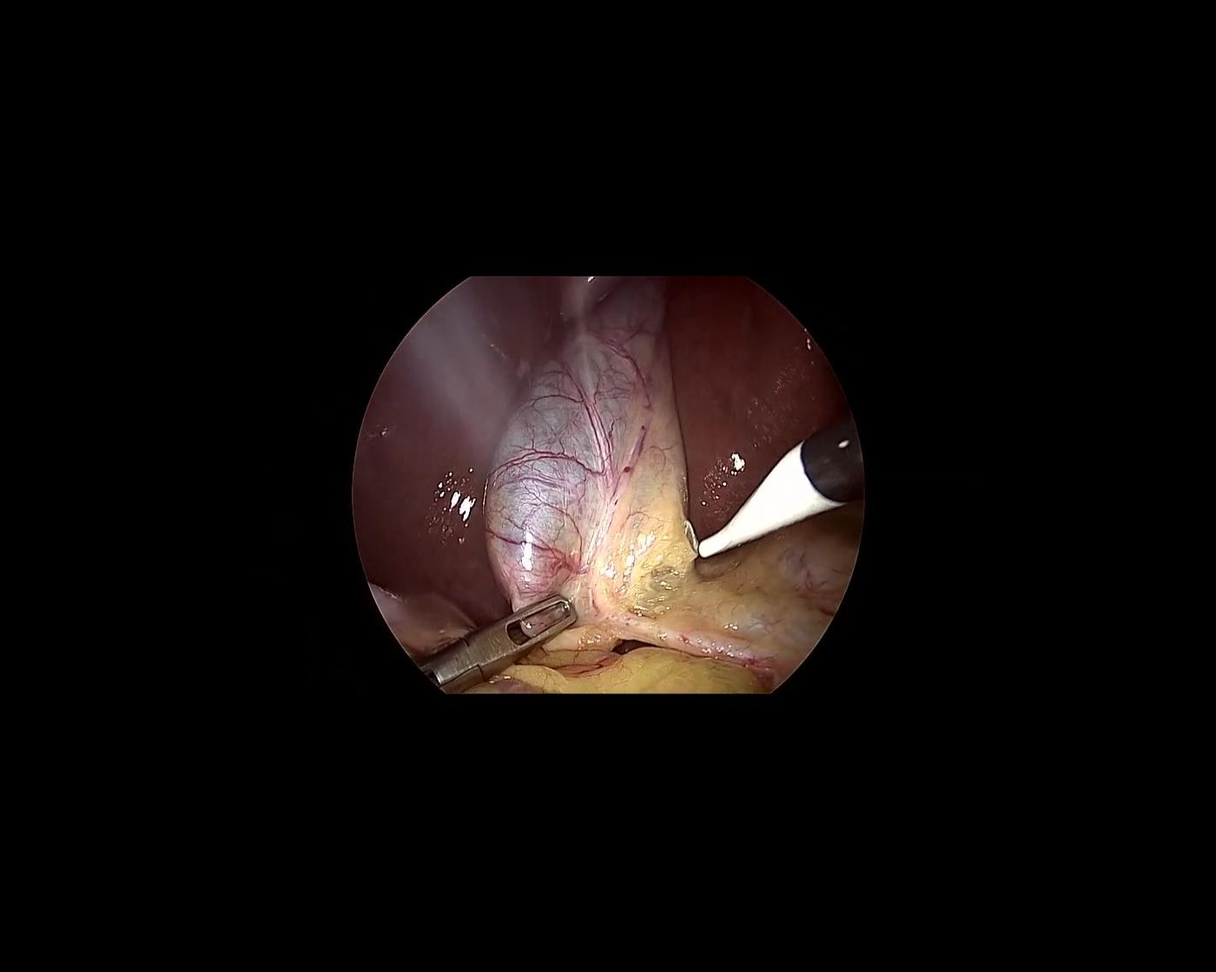Cautery: (668, 409, 880, 561)
Forceps: (415, 579, 585, 704)
Gallbladder: (470, 270, 693, 653)
Liver: (332, 251, 566, 628), (661, 261, 868, 553)
